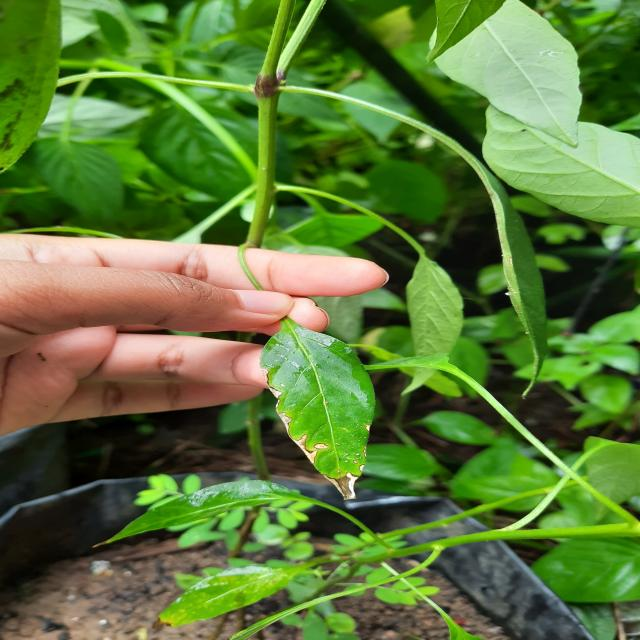bercak_daun: (239, 324, 432, 506)
